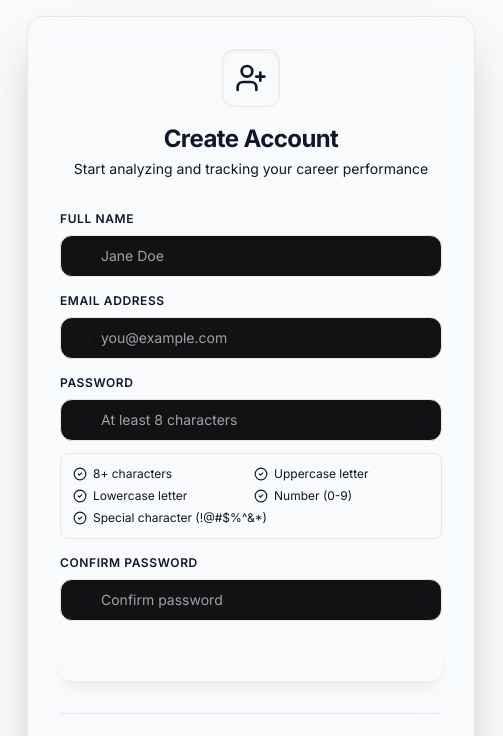
Test: Authentication & Account Management › RegisterPage › displays field-adjacent error for missing or too-short full name
Step 1. Type "A" into the field labelled "Full Name" → (251, 256), box [60,235,442,277]
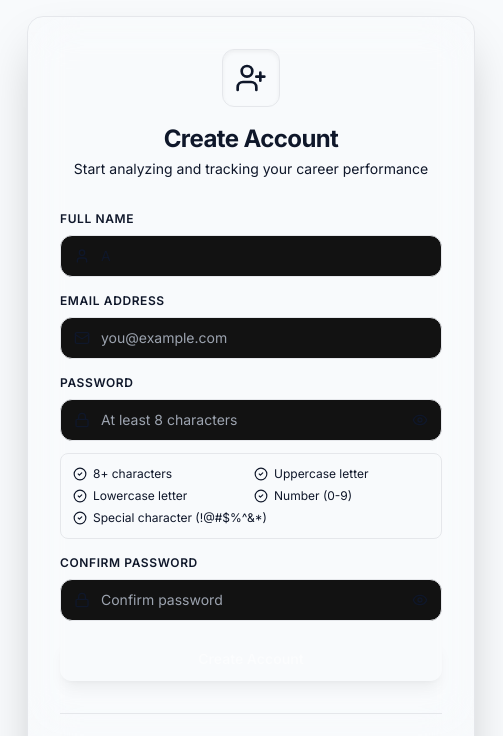
Step 2. Leave the field labelled "Full Name", box [60,235,442,277]
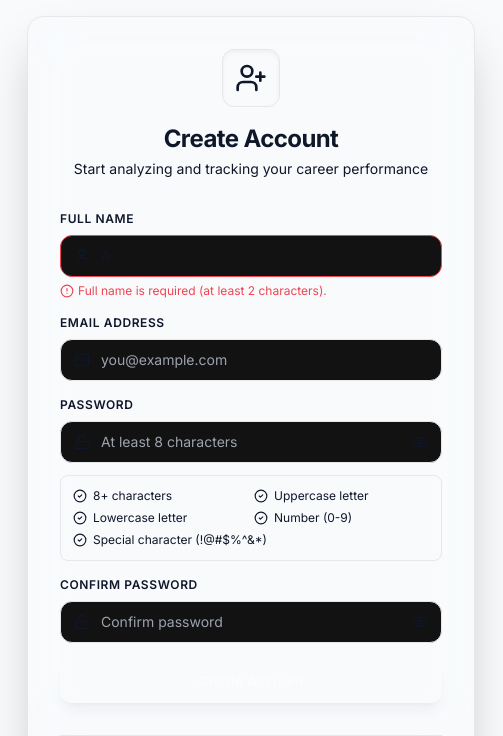
Now the text "Full name is required (at least 2 characters)." is shown, box [78,283,327,299]
